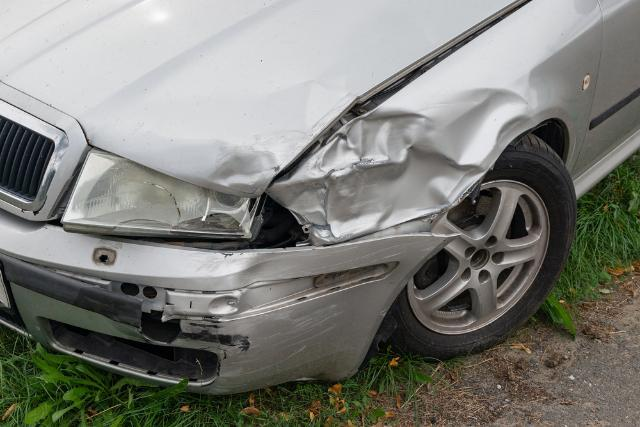dent: (275, 86, 533, 242), (173, 69, 361, 184), (238, 255, 281, 303)
dislocated part: (260, 0, 528, 195), (16, 253, 402, 328), (219, 231, 460, 257)
lamp broken: (59, 149, 269, 241)
scratch: (179, 302, 345, 384)
